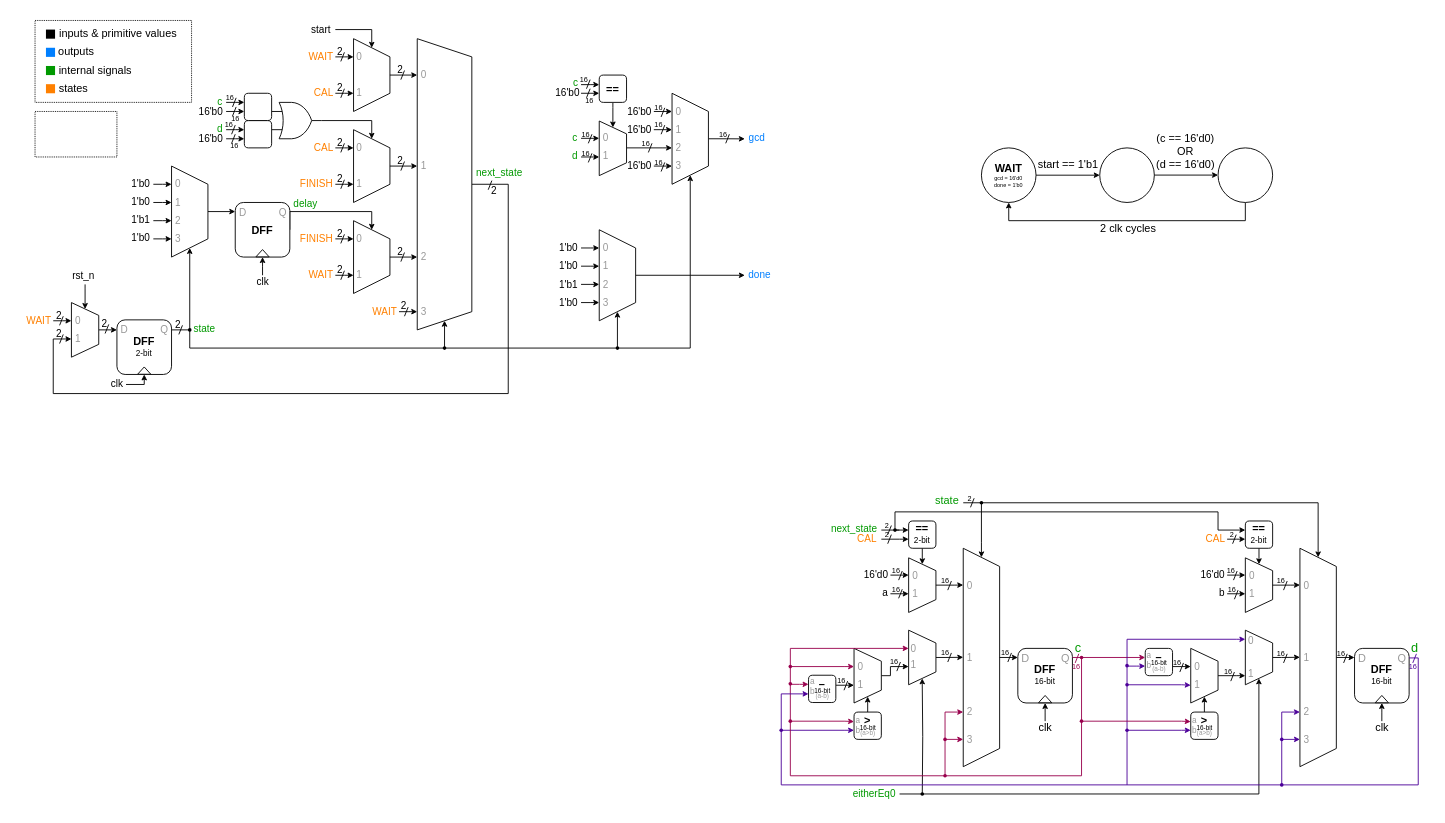
The diagram is 1445 pixels wide and 823 high, and some of its shapes have lost their labels. Each missing label, with the centre of its shape:
"== 16- bit" goes at point 257,106.
"== 16-bit" goes at point 257,134.
"CAL gcd = 16'd0 done = 1'b0" goes at point 1126,174.
"FINISH gcd = ANS done = 1'b1" goes at point 1245,174.
"WAIT = 2'd0 CAL = 2'd1 FINISH = 2'd2" goes at point 75,134.
